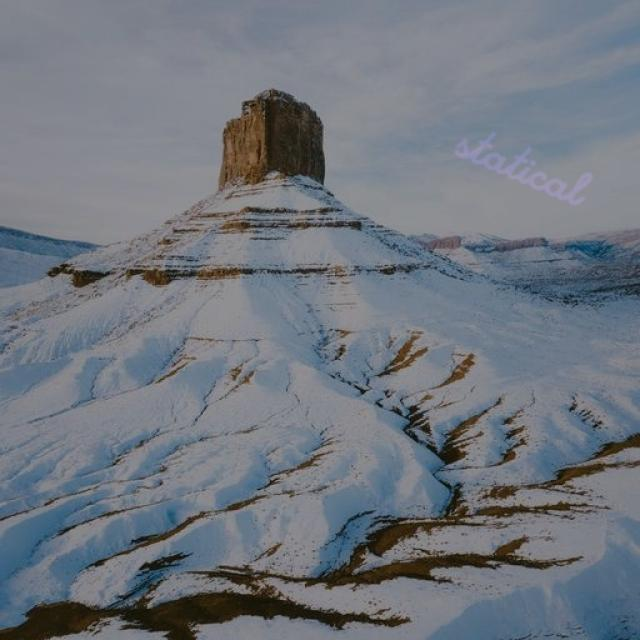watermark: (444, 118, 614, 215)
